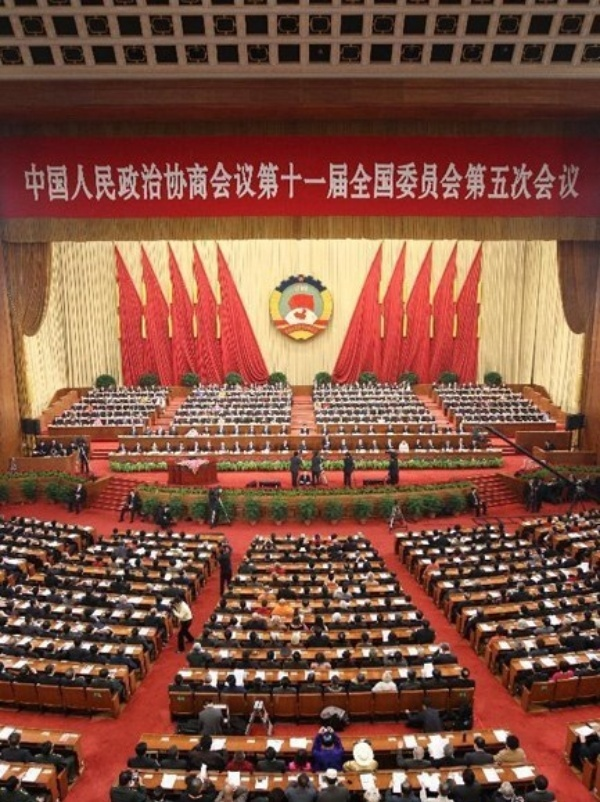text: (33, 163, 48, 201), (49, 163, 64, 201), (65, 163, 80, 201), (81, 163, 96, 201), (97, 163, 112, 201), (113, 163, 128, 201), (129, 163, 144, 201), (145, 163, 160, 201), (161, 163, 176, 201), (177, 163, 192, 201), (193, 163, 208, 201), (209, 163, 224, 201), (225, 163, 240, 201), (241, 163, 256, 201), (257, 163, 272, 201), (273, 163, 288, 201), (289, 163, 304, 201), (305, 163, 320, 201), (321, 163, 336, 201), (337, 163, 352, 201), (353, 163, 368, 201), (369, 163, 384, 201), (385, 163, 400, 201), (401, 163, 416, 201), (417, 163, 432, 201), (433, 163, 448, 201), (449, 163, 464, 201), (465, 163, 480, 201), (481, 163, 496, 201), (497, 163, 512, 201), (513, 163, 528, 201), (529, 163, 544, 201), (545, 163, 560, 201), (561, 163, 576, 201), (24, 163, 32, 201), (577, 163, 584, 201)
